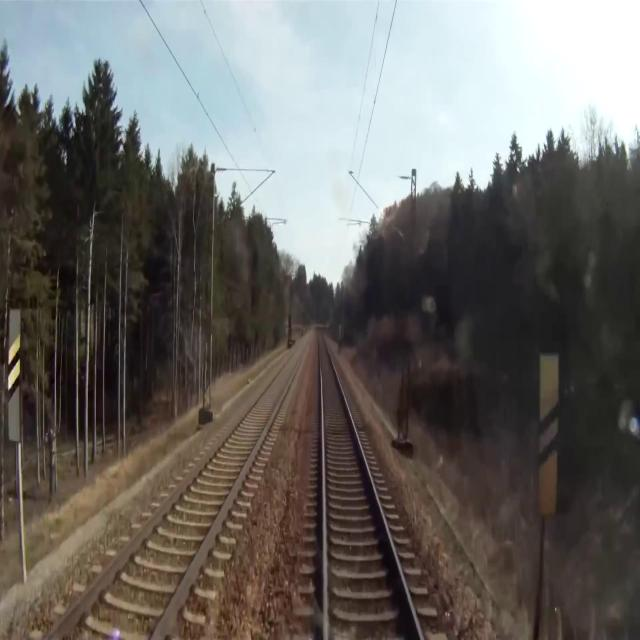rail-track: (48, 328, 311, 639), (320, 332, 419, 639)
